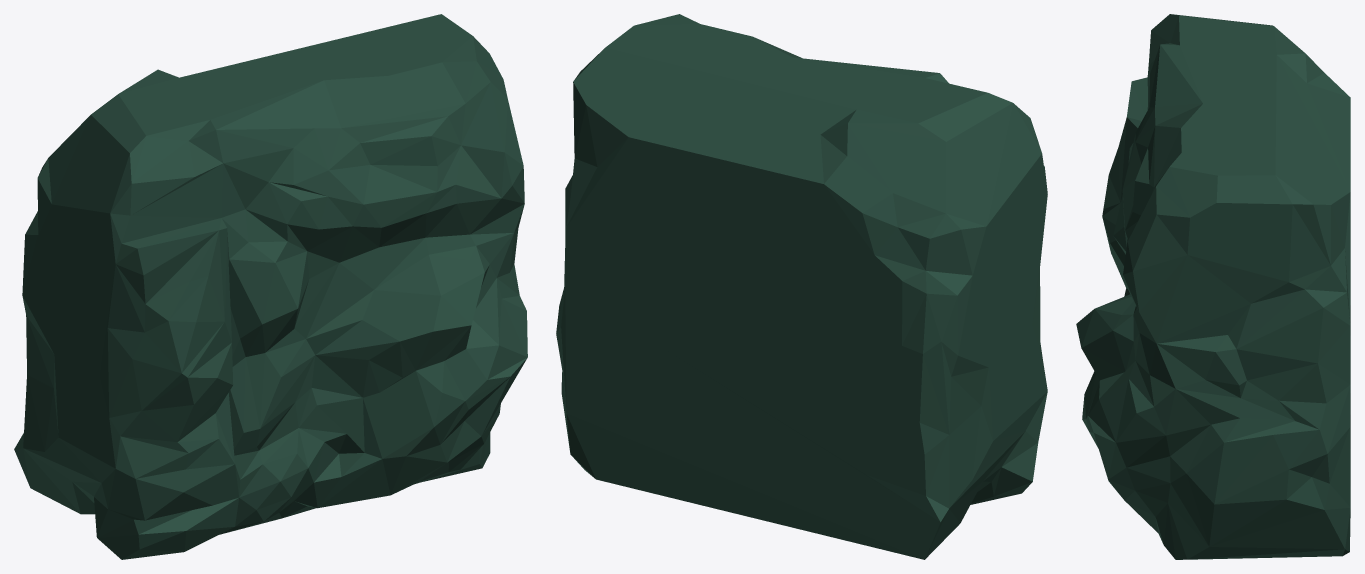
File: SM_large_rock_37.fbx
3 views of the same model, side by side, from view 1: azimuth 30°, elevation 25°; view 2: azimuth 150°, elevation 25°; view 3: azimuth 270°, elevation 25° (orthographic). The views are drawn at different scales.
Parts seen in each view (by area): view 1: large_rock_37; view 2: large_rock_37; view 3: large_rock_37.
Boxes of the visible parts, bbox=[...] form: large_rock_37: bbox=[14, 14, 527, 559]; large_rock_37: bbox=[556, 14, 1047, 559]; large_rock_37: bbox=[1076, 14, 1350, 559].
Size of the model in its own units: 62.34 by 57.83 by 36.81.
